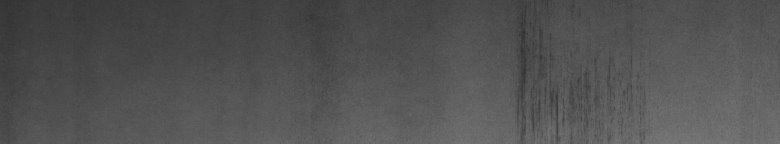ka: (510, 8, 642, 136)
